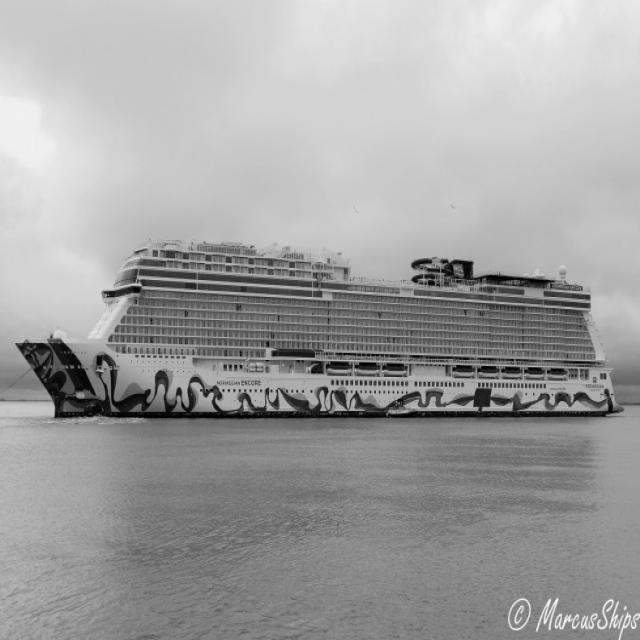cruises: (9, 228, 628, 437)
